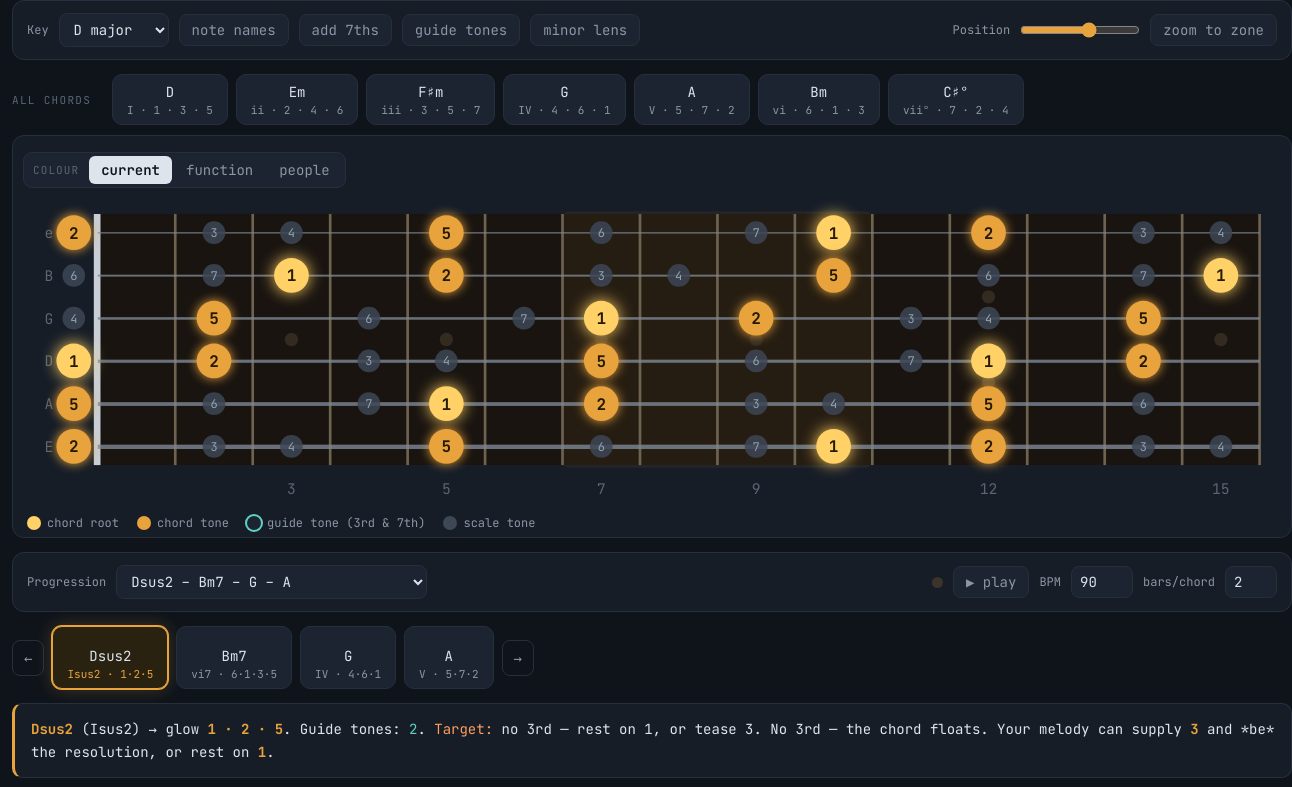
Test: <DegreeLens /> › stepping the progression advances the chord and pulses the fresh note
This screenshot has width=1292, height=787.
Click the button named "Next chord" at (518, 658), box [502,640,534,676]
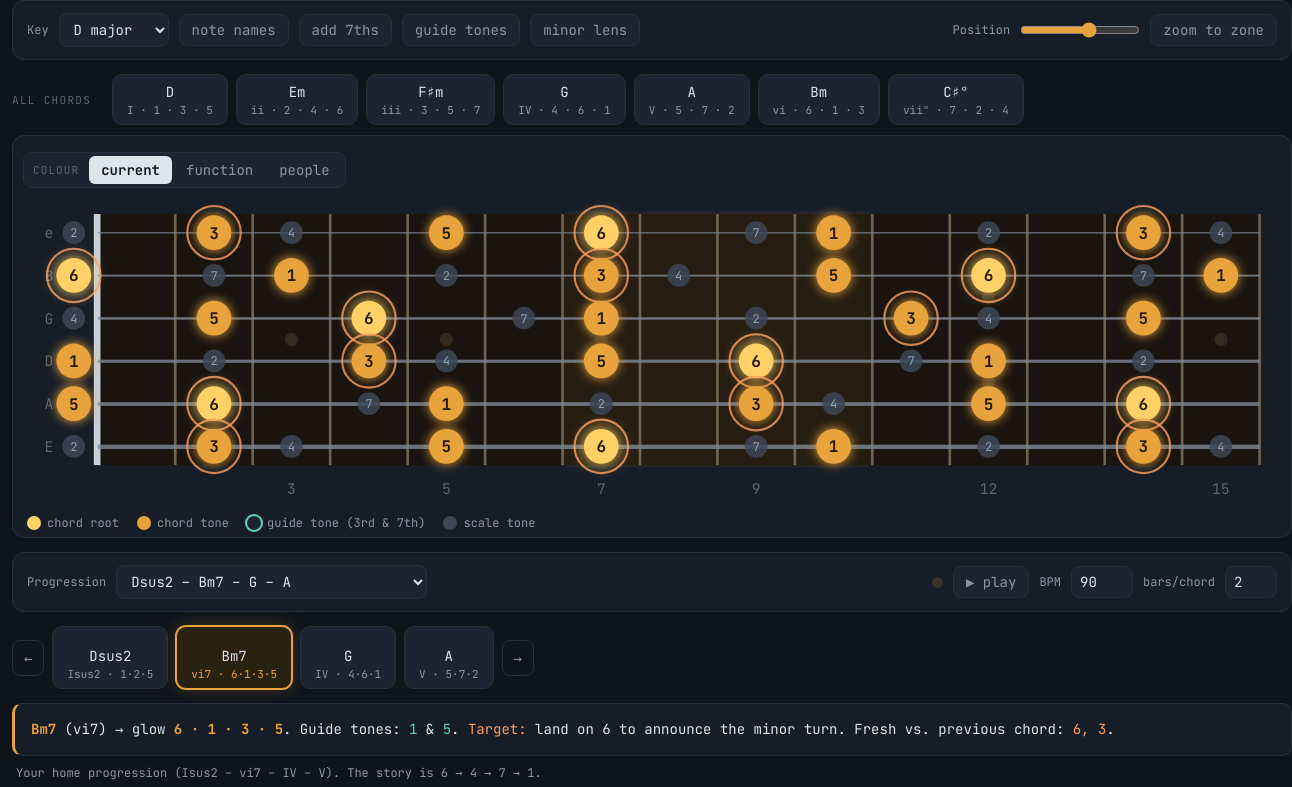
Check: the element with class "dl-info" shows "Bm7 (vi7) → glow 6 · 1 · 3 · 5", box [12,703,1291,756]
Check: the element with class "dl-info" shows "Fresh vs. previous chord: 6, 3", box [12,703,1291,756]
